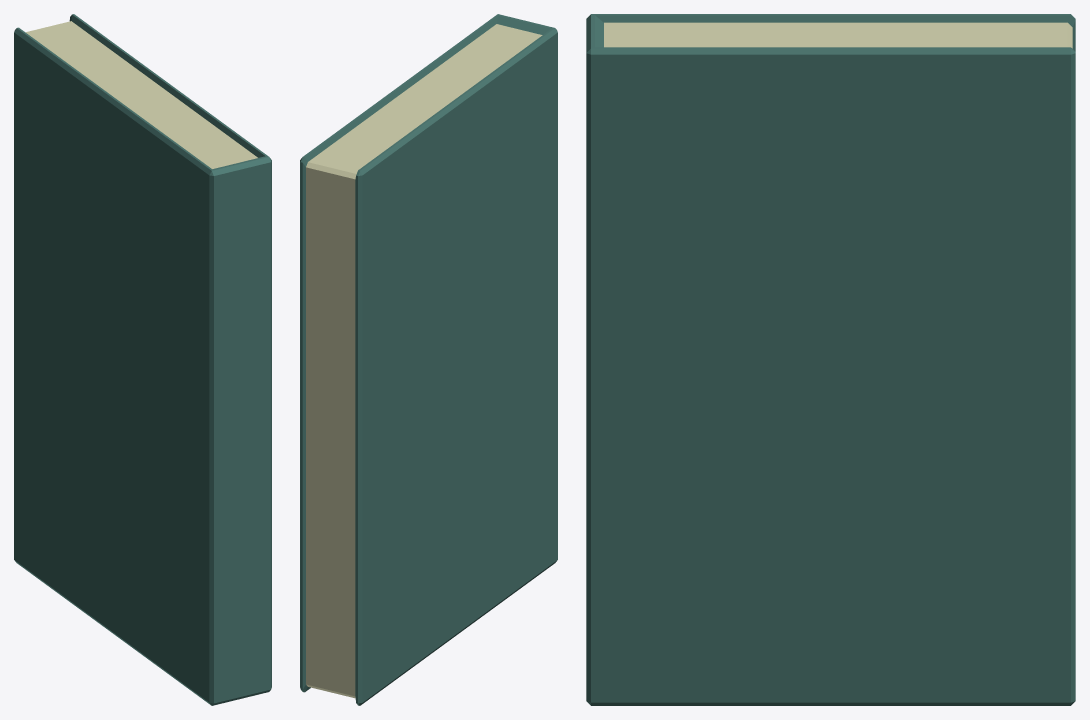
File: BOOK_03.fbx
The picture shows the model from 3 angles, left to right: view 1: azimuth 30°, elevation 25°; view 2: azimuth 150°, elevation 25°; view 3: azimuth 270°, elevation 25°; orthographic projection. The views are drawn at different scales.
Visible parts, largest first — view 1: BOOK_03; view 2: BOOK_03; view 3: BOOK_03.
Part boxes in pixels (<box>): BOOK_03: <box>14,14,271,705</box>; BOOK_03: <box>300,14,557,705</box>; BOOK_03: <box>586,14,1075,705</box>.
Size of the model in its own units: 1.1 by 8.99 by 6.06.
